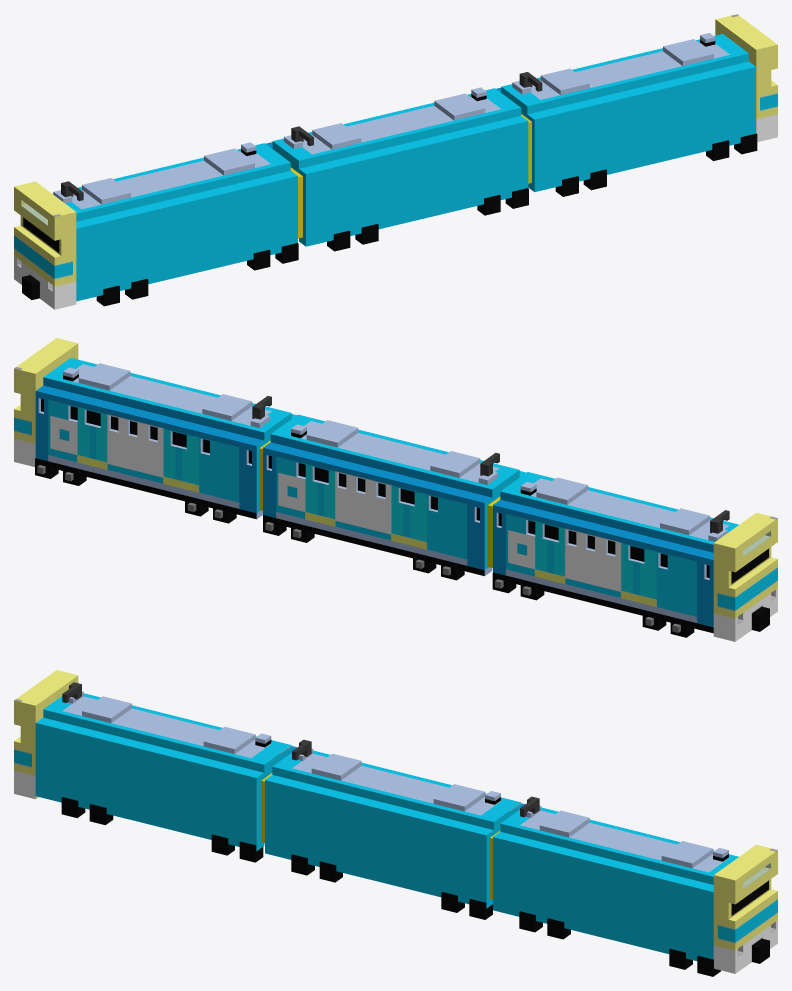
The model's file is Train.fbx.
The picture shows the model from 3 angles, top to bottom: view 1: azimuth 30°, elevation 25°; view 2: azimuth 150°, elevation 25°; view 3: azimuth 330°, elevation 25°; orthographic projection.
Visible parts, largest first — view 1: pCube12 (×3), pCube27, pCube1; view 2: pCube12 (×3), pCube27, pCube1; view 3: pCube12 (×3), pCube1, pCube27.
Boxes of the visible parts, x1,y1,x2,y2 form: pCube12 (×3): (52,33,755,301); pCube27: (14,181,76,309); pCube1: (715,14,777,141); pCube12 (×3): (35,358,738,633); pCube27: (713,512,777,641); pCube1: (14,338,78,466); pCube12 (×3): (35,691,738,960); pCube1: (713,844,777,973); pCube27: (14,670,78,799).
Bounding box in the file's own units: 2636 × 366 × 304.
